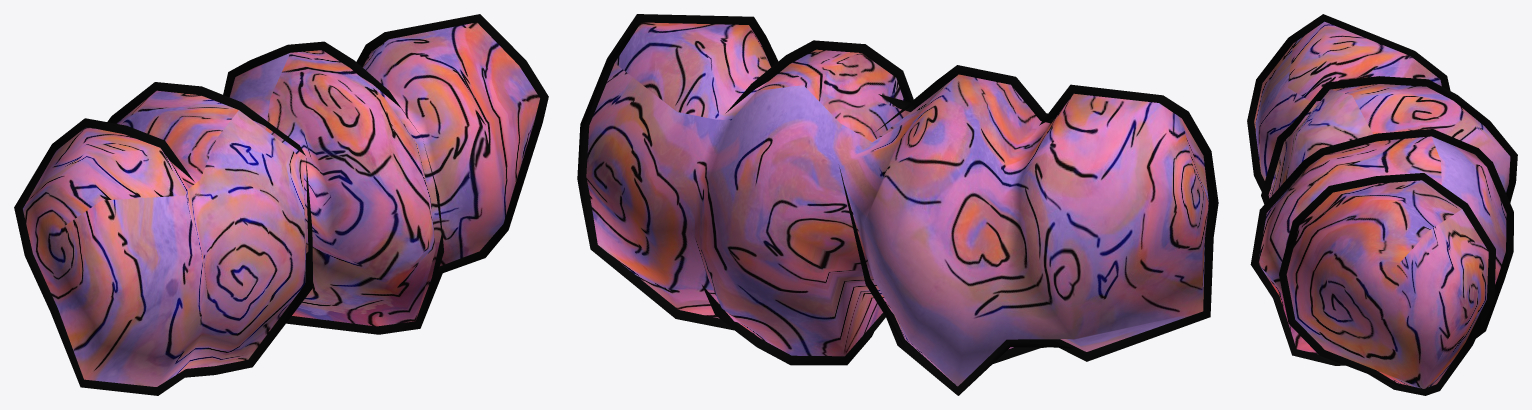
The model's file is entity3198n.gltf.
The picture shows the model from 3 angles, left to right: view 1: azimuth 30°, elevation 25°; view 2: azimuth 150°, elevation 25°; view 3: azimuth 270°, elevation 25°; orthographic projection. The views are drawn at different scales.
Visible parts, largest first — view 1: node_Bush_02 (0); view 2: node_Bush_02 (0); view 3: node_Bush_02 (0).
Part boxes in pixels (left/top/right/bottom): node_Bush_02 (0): left=14, top=14, right=548, bottom=395; node_Bush_02 (0): left=577, top=14, right=1218, bottom=395; node_Bush_02 (0): left=1247, top=14, right=1517, bottom=395.
Size of what is drawn, in the model's own units: 2.85 by 1.36 by 1.47.
